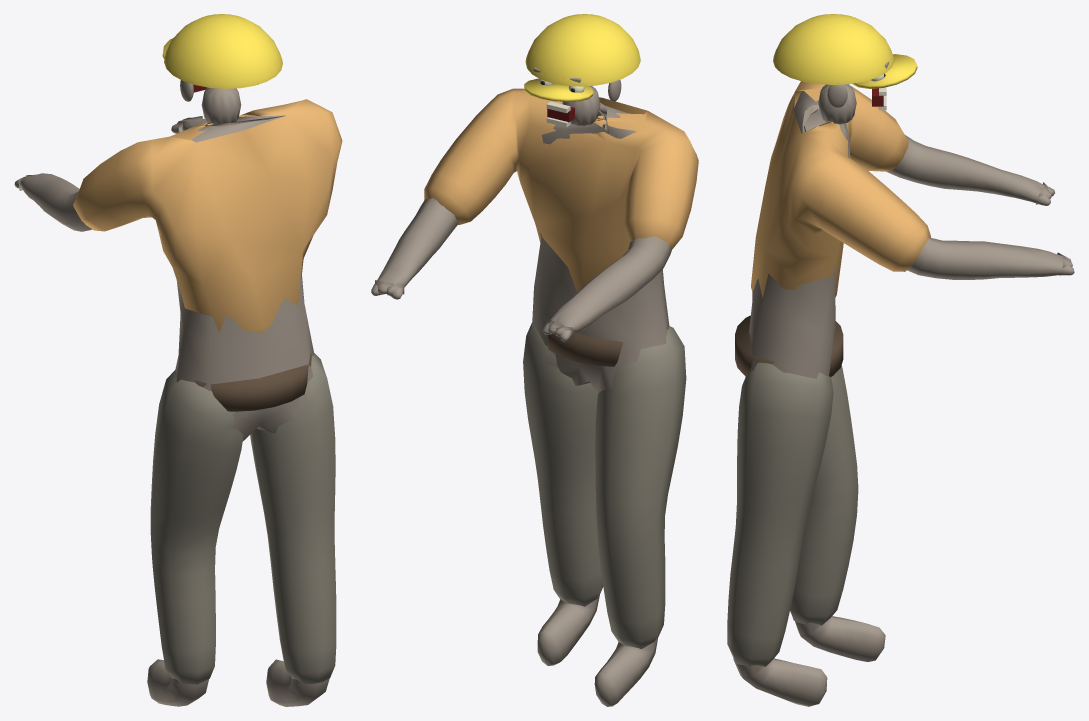
File: zombie_builder.glb
3 views of the same model, side by side, from view 1: azimuth 30°, elevation 25°; view 2: azimuth 150°, elevation 25°; view 3: azimuth 270°, elevation 25° (orthographic). The views are drawn at different scales.
Parts seen in each view (by area): view 1: pants, shirt, body, helmet, belt, head; view 2: pants, shirt, body, helmet, belt, head, brim; view 3: pants, body, shirt, helmet, belt, head, brim.
Boxes of the visible parts, x1,y1,x2,y2 form: pants: (150,353,336,684); shirt: (73,99,342,332); body: (14,115,329,706); helmet: (164,14,282,88); belt: (195,353,311,411); head: (180,80,258,124); pants: (523,322,686,648); shirt: (424,88,698,292); body: (371,102,671,706); helmet: (525,14,640,86); belt: (547,322,668,366); head: (562,80,621,126); brim: (524,78,593,101); pants: (727,362,858,666); body: (733,91,1074,706); shirt: (751,81,930,297); helmet: (773,14,894,84); belt: (735,315,843,376); head: (818,84,856,124); brim: (852,54,917,88).
Bounding box in the file's own units: 0.7098 × 1.9 × 0.8962.
